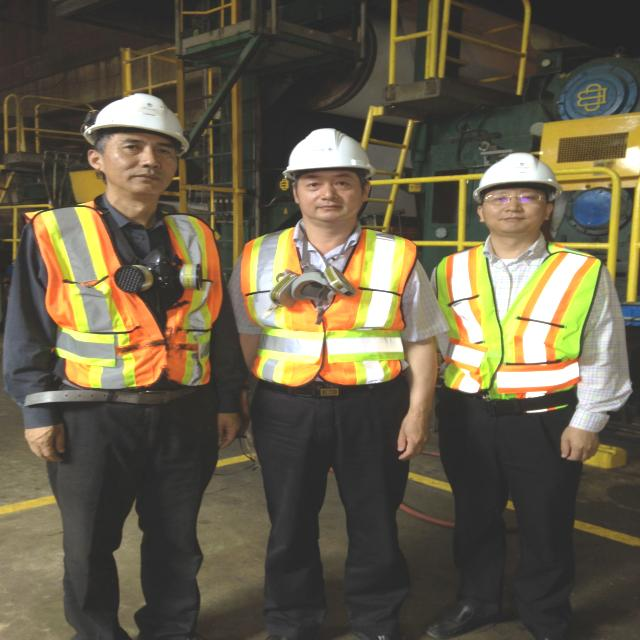face_nomask: (104, 135, 181, 192), (479, 180, 544, 240), (304, 170, 362, 220)
glasses: (483, 188, 551, 208)
hand_noglove: (384, 412, 425, 460), (554, 424, 600, 466), (22, 422, 62, 464), (210, 410, 236, 452)
head_helmet: (83, 86, 195, 145), (277, 121, 370, 174), (470, 154, 565, 185)
person: (34, 90, 218, 628), (428, 151, 615, 636), (253, 122, 427, 628)
vest: (57, 214, 201, 384), (451, 248, 601, 388), (268, 236, 403, 381)
